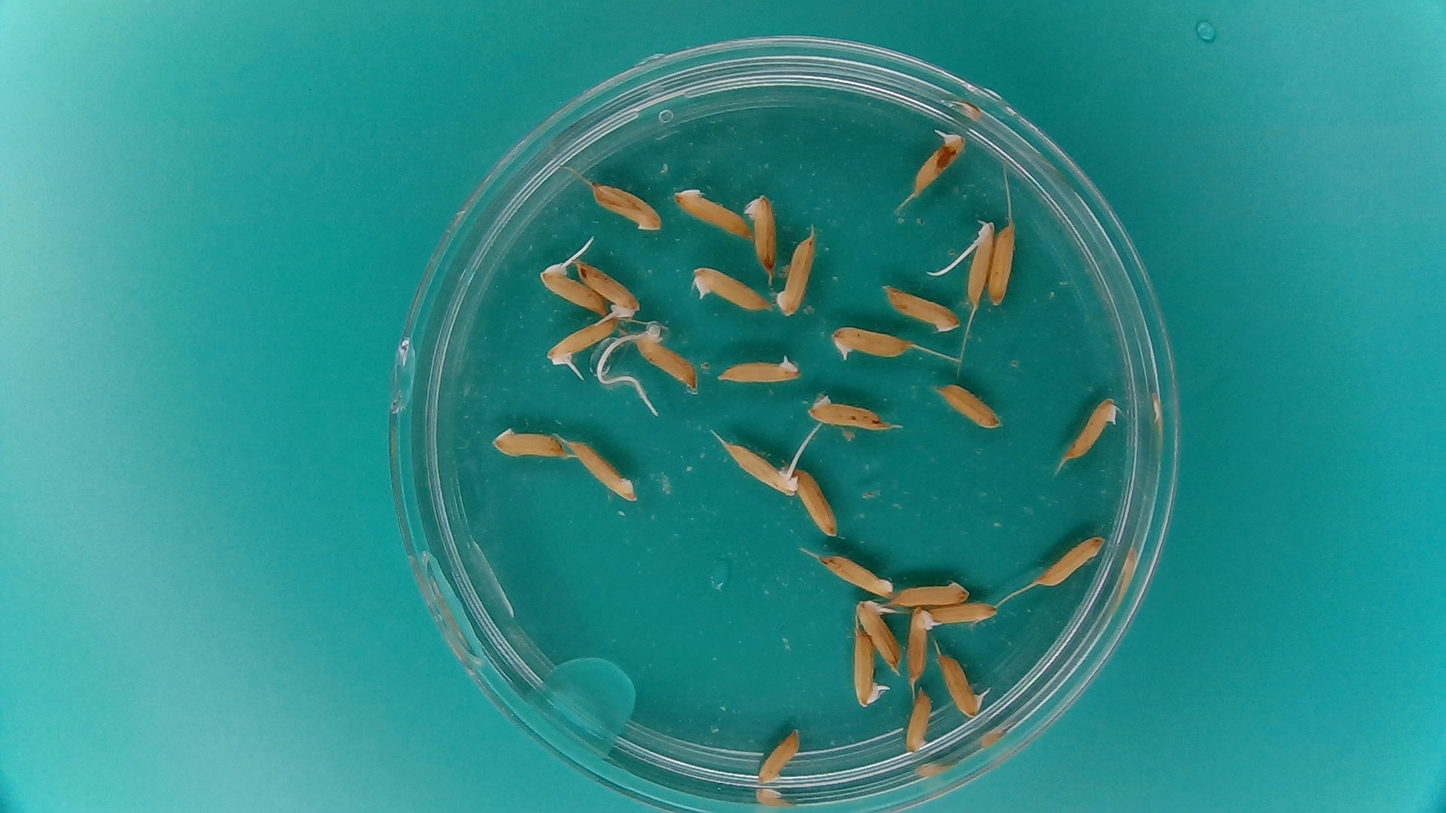no: (671, 182, 753, 241), (566, 438, 638, 504), (879, 282, 962, 337), (771, 229, 819, 318), (587, 179, 664, 233), (802, 388, 896, 432), (1034, 534, 1107, 588), (932, 382, 1004, 431), (819, 552, 896, 597), (795, 464, 840, 540), (984, 220, 1019, 307), (743, 191, 779, 275), (488, 424, 569, 461), (754, 726, 803, 787), (891, 577, 974, 609), (903, 688, 935, 756), (924, 601, 1002, 628)
yes: (937, 644, 1002, 721), (572, 256, 643, 321), (1062, 393, 1124, 466), (687, 263, 773, 315), (721, 443, 803, 496), (633, 324, 695, 394), (545, 313, 622, 366), (911, 127, 970, 195), (827, 321, 914, 364), (854, 595, 901, 674), (538, 262, 609, 313), (713, 349, 802, 388), (848, 629, 886, 714), (958, 218, 996, 302), (905, 604, 938, 687)
